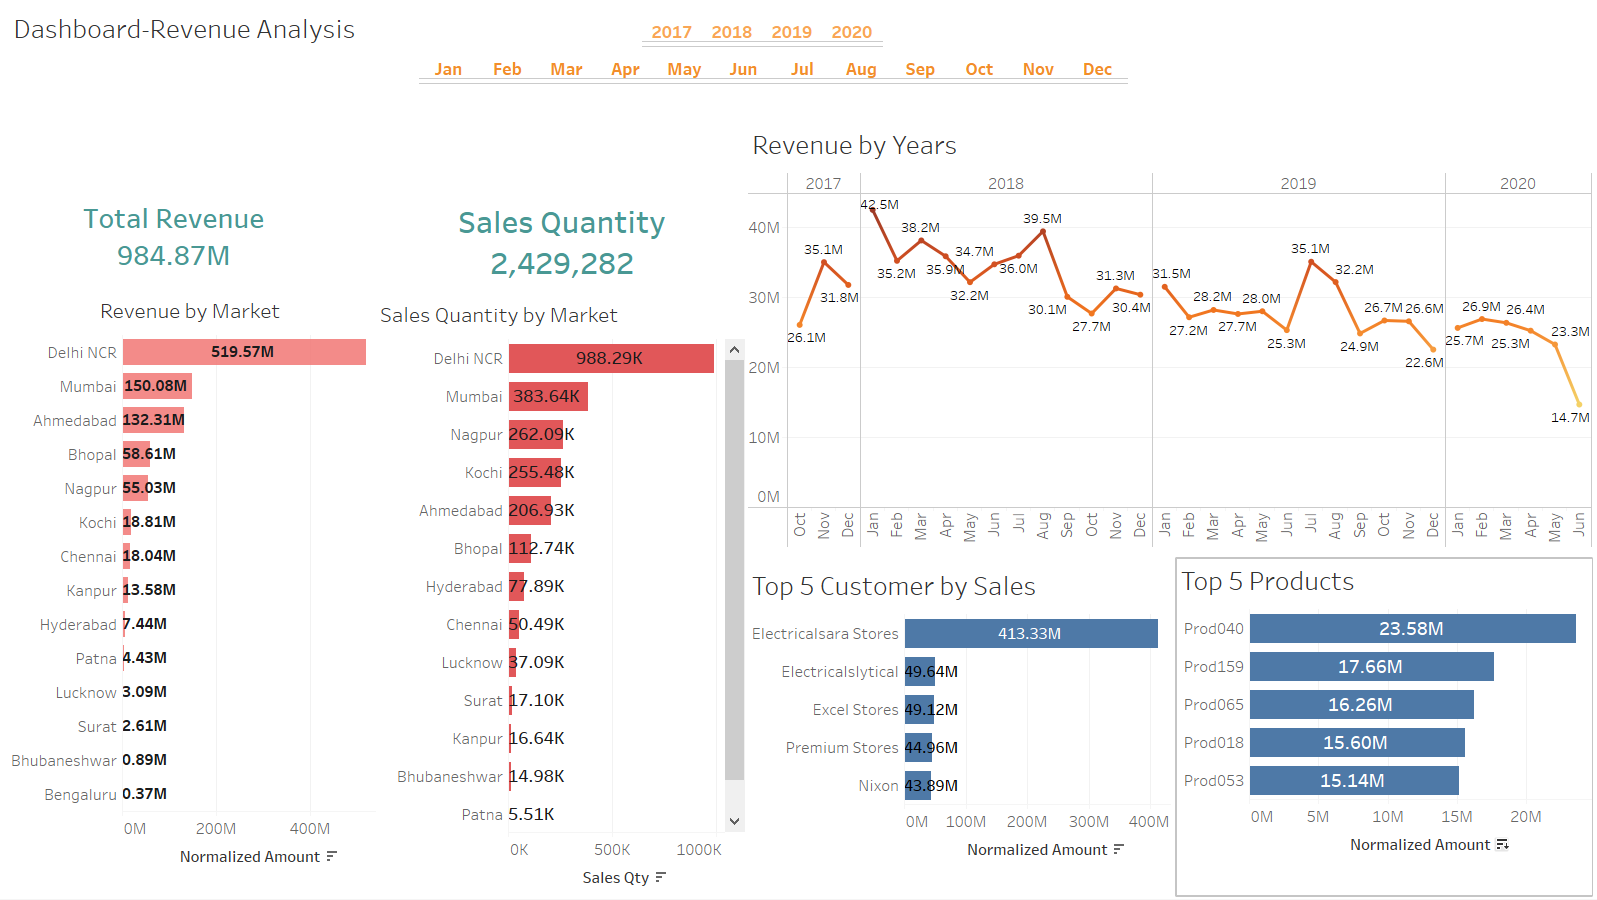

Layout of this report page (visuals, bound fields, positions):
{"tool":"tableau","page":{"name":"Dashboard-Revenue Analysis","canvas":[1600,900],"ordinal":1},"visuals":[{"type":"worksheet","title":"Year","mark":"Automatic","cols":["cy_date"],"box":[644,22,263,43]},{"type":"worksheet","title":"Month","mark":"Automatic","cols":["cy_date"],"box":[421,59,763,56]},{"type":"worksheet","title":"Revenue by Years","mark":"Automatic","rows":["Calculation_1045398112552312832"],"cols":["cy_date","cy_date"],"box":[750,124,844,425]},{"type":"worksheet","title":"Revenue","mark":"Automatic","box":[75.7,200,241.1,100]},{"type":"worksheet","title":"Quantity","mark":"Automatic","box":[455,202,236,88]},{"type":"worksheet","title":"Revenue by Market","mark":"Automatic","rows":["markets_name"],"cols":["Calculation_1045398112552312832"],"box":[4,293,376,597]},{"type":"worksheet","title":"Sales Quantity by Market","mark":"Automatic","rows":["markets_name"],"cols":["sales_qty"],"box":[378,297,369,599]},{"type":"worksheet","title":"Top 5 Products","mark":"Automatic","rows":["product_code (products)"],"cols":["Calculation_1045398112552312832"],"box":[1179,560,415,336]},{"type":"worksheet","title":"Top 5 Customer by Sales","mark":"Automatic","rows":["custmer_name"],"cols":["Calculation_1045398112552312832"],"box":[750,565,423,333]}]}

Visuals, with their boxes in screenshot pixels (x1, y1, x2, y2), scaled from the page's 1600x900 canvas onto the 1597x900 screenshot:
"Year" worksheet: region(643, 22, 905, 65)
"Month" worksheet: region(420, 59, 1182, 115)
"Revenue by Years" worksheet: region(749, 124, 1591, 549)
"Revenue" worksheet: region(76, 200, 316, 300)
"Quantity" worksheet: region(454, 202, 690, 290)
"Revenue by Market" worksheet: region(4, 293, 379, 890)
"Sales Quantity by Market" worksheet: region(377, 297, 746, 896)
"Top 5 Products" worksheet: region(1177, 560, 1591, 896)
"Top 5 Customer by Sales" worksheet: region(749, 565, 1171, 898)
